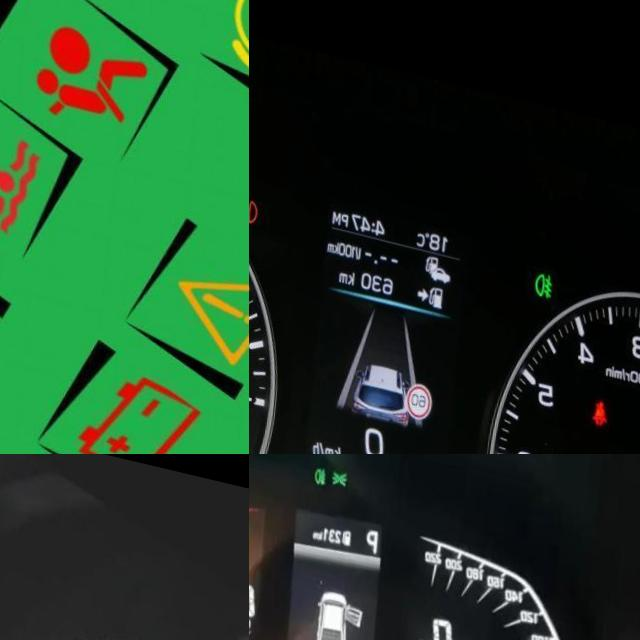Seat Belt: (596, 372, 617, 404)
